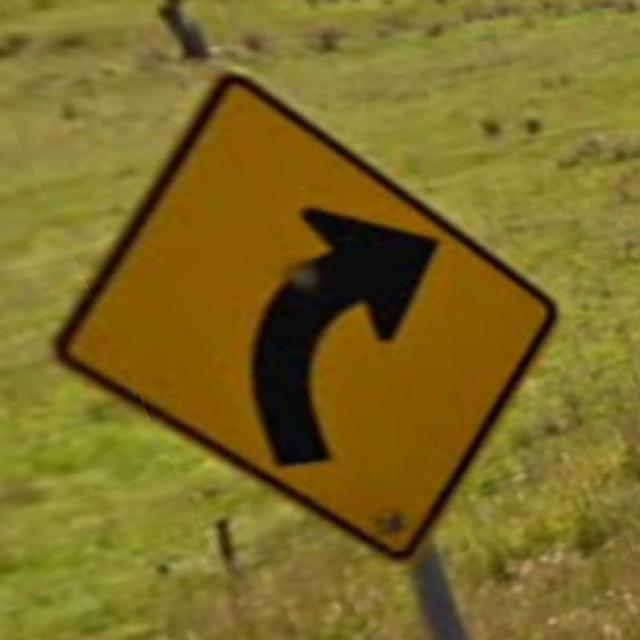Tikungan Ke Kanan: (46, 55, 560, 565)
